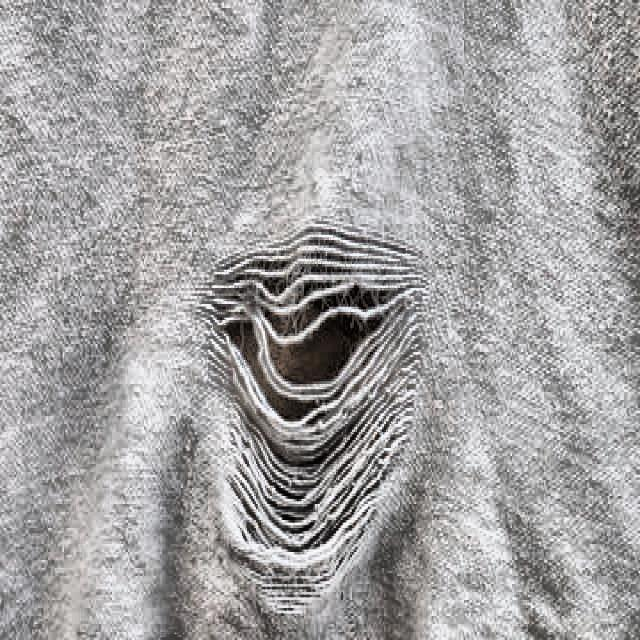other: (152, 186, 466, 624)
